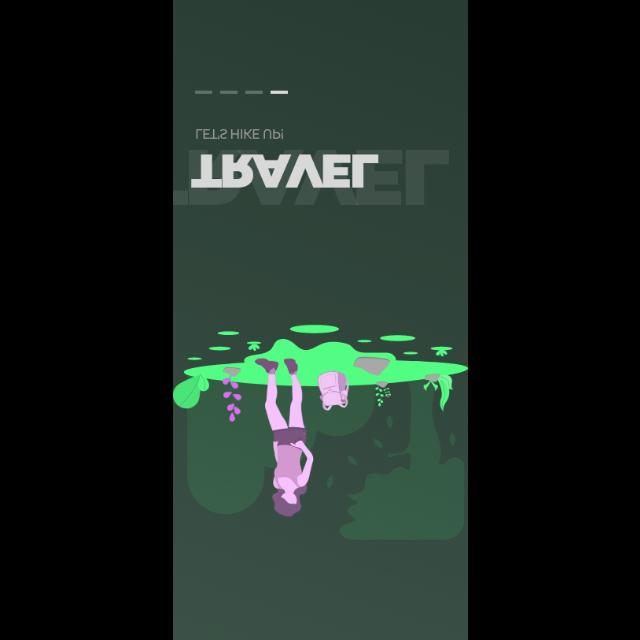image: (173, 322, 467, 540)
pageindicator: (195, 90, 288, 94)
text: (190, 154, 378, 188), (194, 128, 284, 140)
